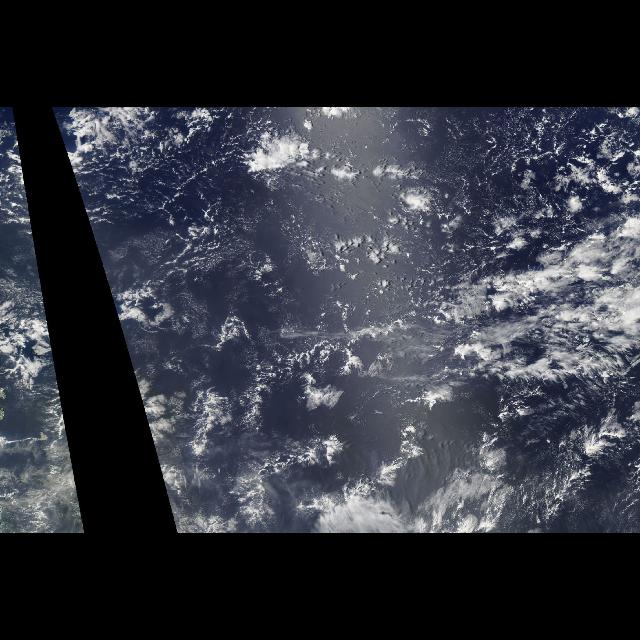Fish: (344, 221, 640, 409)
Gravel: (164, 112, 630, 245)
Sugar: (122, 147, 334, 347)
